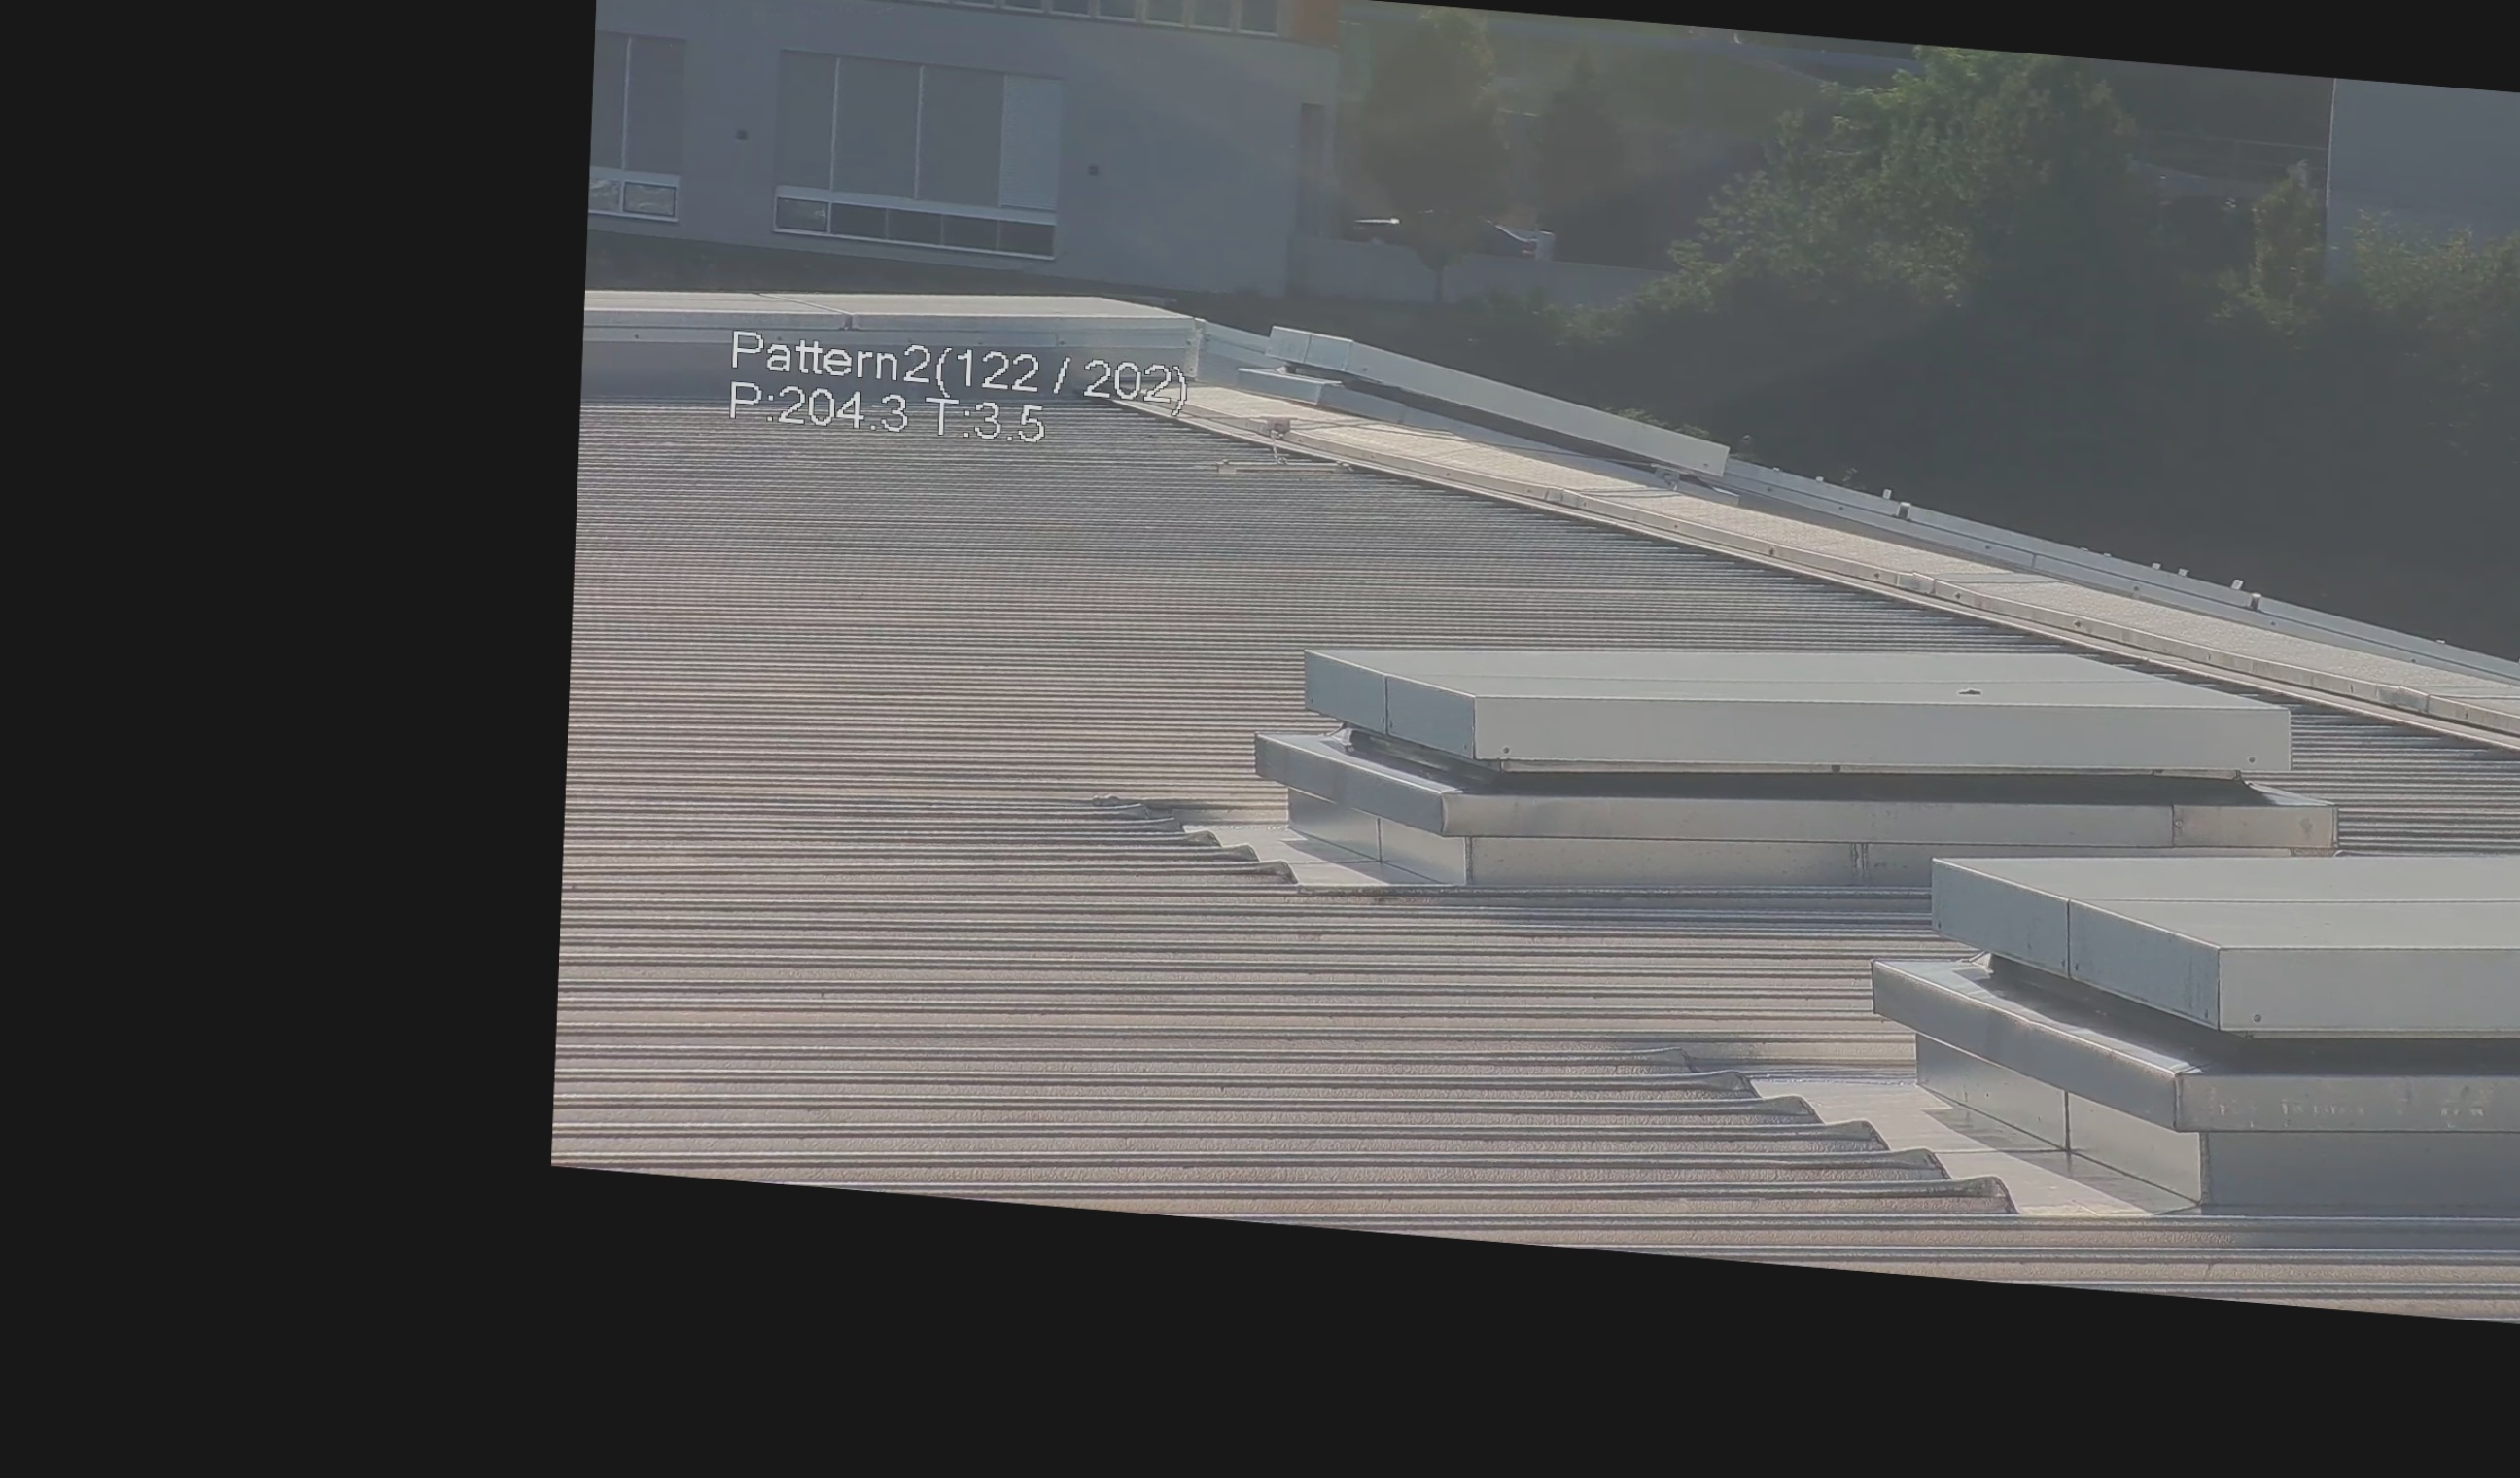Other: (1349, 183, 1546, 289)
